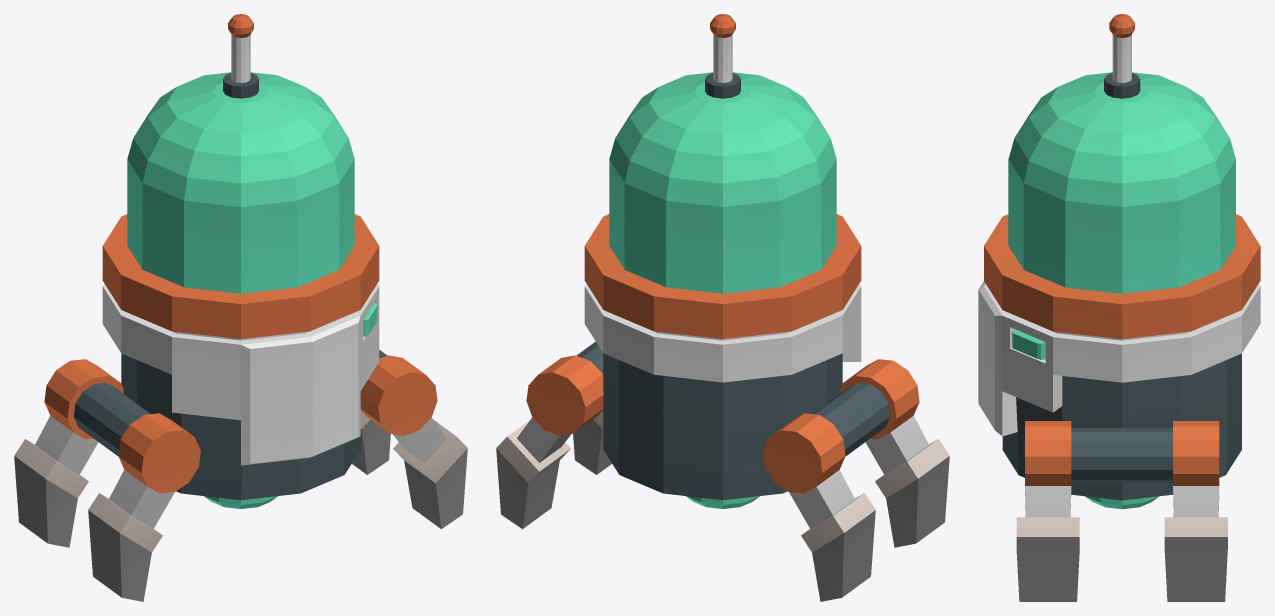
File: Beacon_Drone.obj
The picture shows the model from 3 angles, left to right: view 1: azimuth 30°, elevation 25°; view 2: azimuth 150°, elevation 25°; view 3: azimuth 270°, elevation 25°; orthographic projection.
Parts seen in each view (by area): view 1: Beacon_Drone; view 2: Beacon_Drone; view 3: Beacon_Drone.
Part boxes in pixels (bbox=[...]): Beacon_Drone: bbox=[14, 14, 467, 601]; Beacon_Drone: bbox=[496, 14, 949, 601]; Beacon_Drone: bbox=[978, 14, 1260, 601].
Size of the model in its own units: 4.58 by 6.44 by 3.21.
